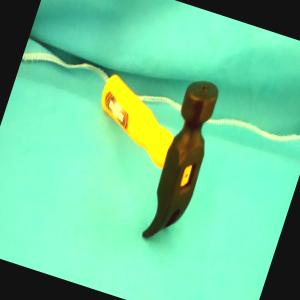martelo: (63, 50, 229, 249)
